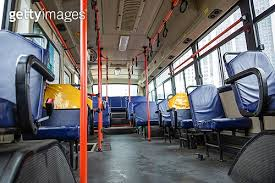seat: (48, 81, 81, 143)
